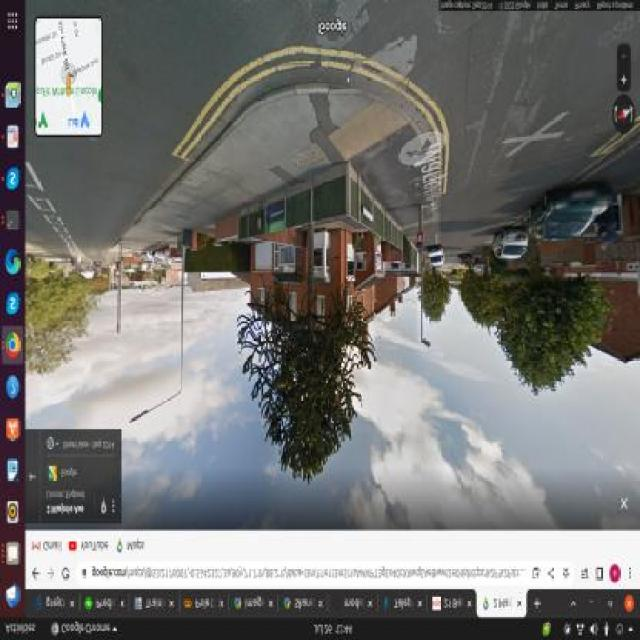pole: (168, 242, 192, 413), (416, 179, 432, 353), (112, 255, 128, 340)
